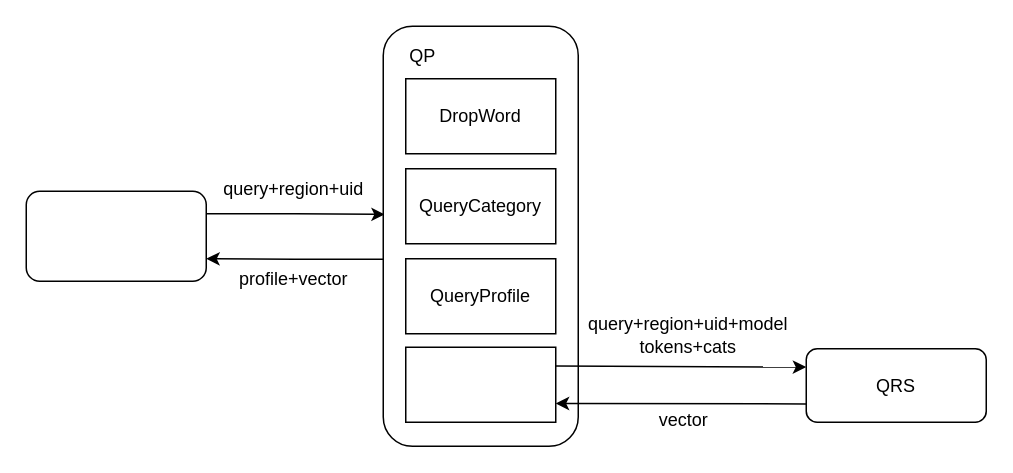
The diagram is 1013 pixels wide and 473 high, and some of its shapes have lost their labels. The centre of each missing label's shape, as x and y in pixels:
"SS" goes at point (115, 235).
"U2I" goes at point (480, 384).
